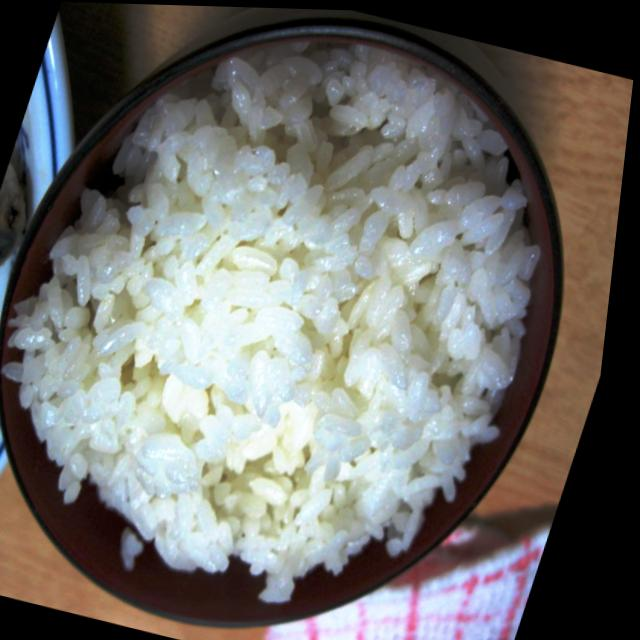rice: (0, 0, 617, 640)
